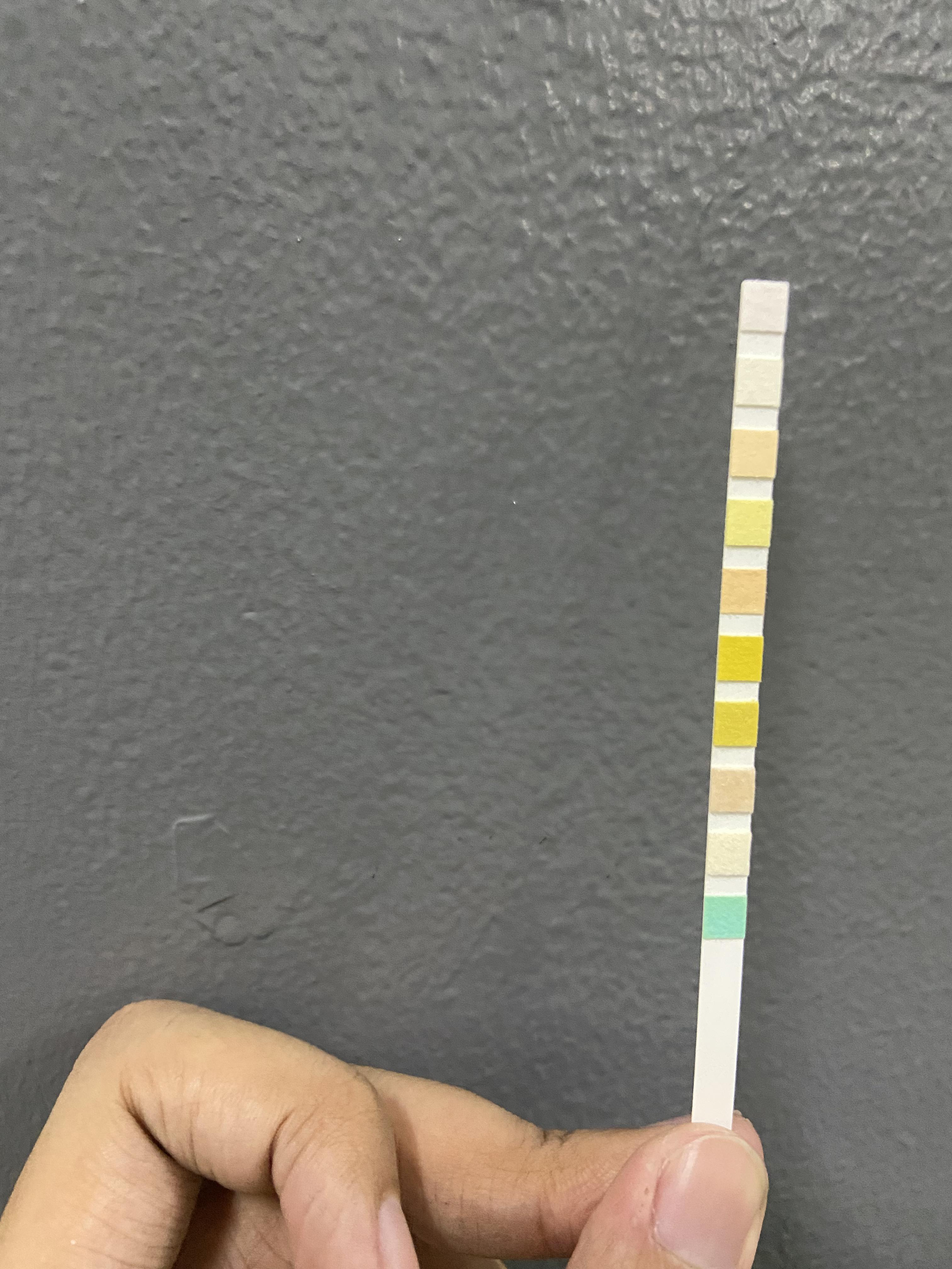Bilirubin: (707, 834, 749, 877)
Blood: (719, 635, 760, 681)
Glucose: (705, 898, 746, 939)
Ketone: (711, 771, 752, 813)
Leukocytes: (744, 282, 785, 331)
Nitrite: (739, 359, 780, 404)
Protein: (727, 501, 768, 546)
SpGravity: (715, 703, 757, 746)
Urobilinogen: (734, 432, 775, 477)
pH: (724, 570, 765, 615)
strip: (691, 280, 792, 1121)
